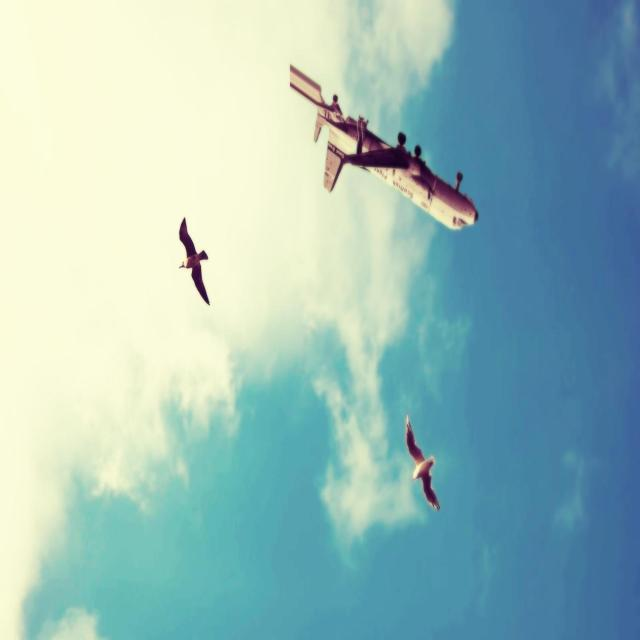airplane: (288, 63, 478, 231)
